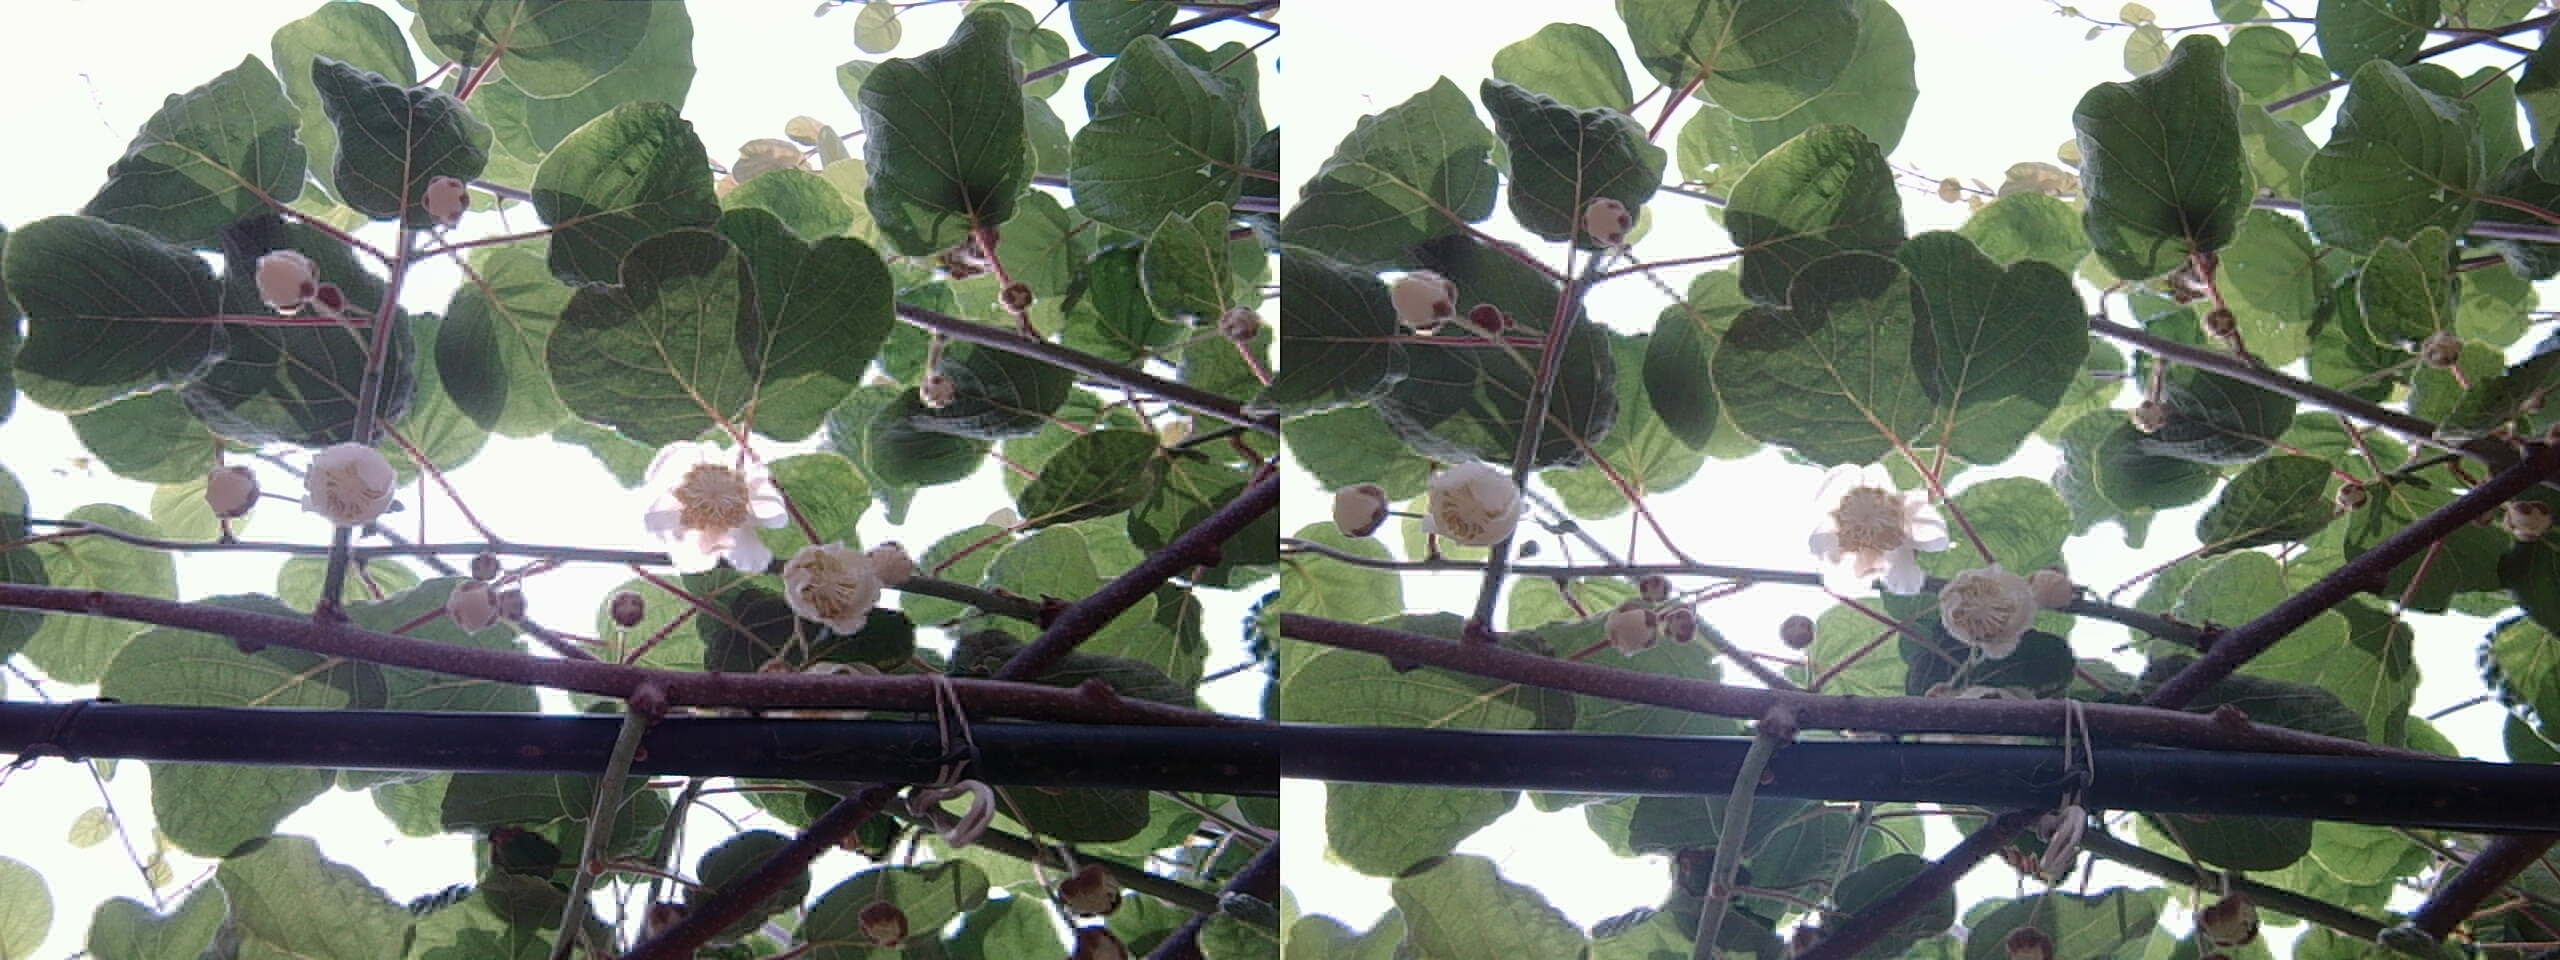flower: (625, 431, 779, 571), (1793, 456, 1944, 596), (784, 537, 901, 625)
